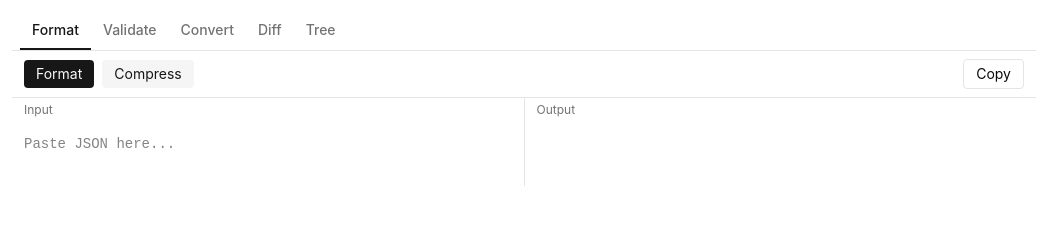
it: JsonFormatterPanel › Diff view has diff button and two inputs
The image size is (1048, 232).
Click the button with test id "tab-diff": x=270, y=31 [246,12,294,50]
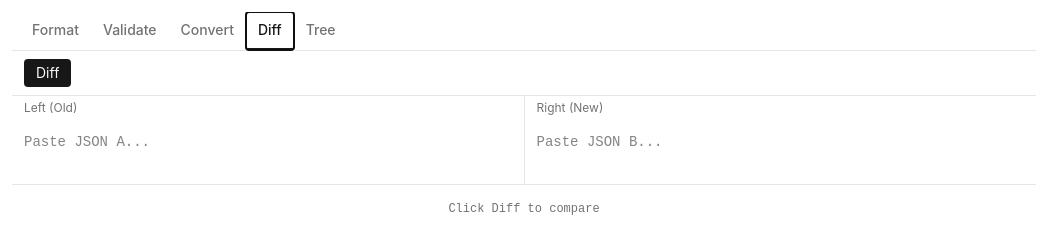
Now the button with test id "btn-diff" is shown, box [24,59,71,87]
Now the text box with test id "diff-left-input" is shown, box [12,120,524,184]
Now the text box with test id "diff-right-input" is shown, box [524,120,1036,184]
